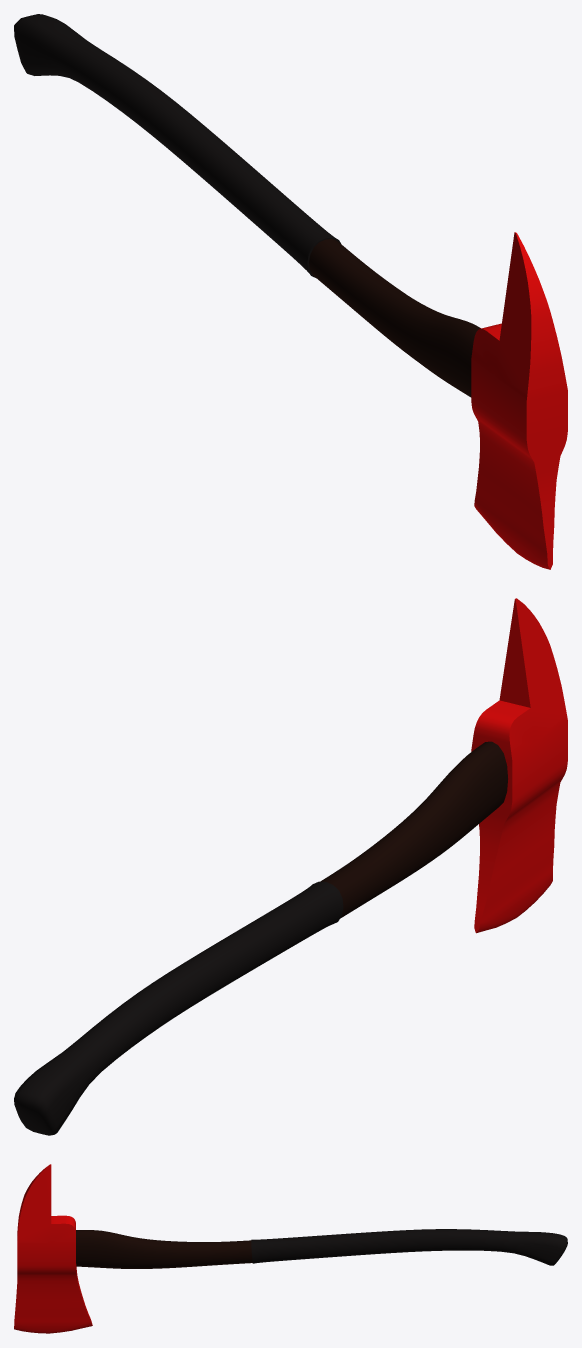
Rendered from FireAxe_low.fbx.
The picture shows the model from 3 angles, top to bottom: view 1: azimuth 30°, elevation 25°; view 2: azimuth 150°, elevation 25°; view 3: azimuth 270°, elevation 25°; orthographic projection. The views are drawn at different scales.
Parts seen in each view (by area): view 1: FireAxe; view 2: FireAxe; view 3: FireAxe.
Boxes of the visible parts, x1=… form: FireAxe: x1=14, y1=14, x2=567, y2=569; FireAxe: x1=14, y1=598, x2=567, y2=1135; FireAxe: x1=14, y1=1164, x2=567, y2=1333.
Size of the model in its own units: 0.0456 by 1 by 0.3378.
